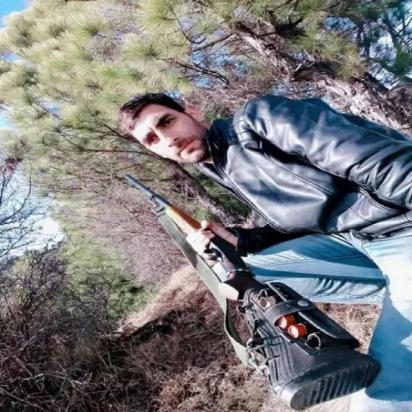Gun: (121, 173, 386, 412)
